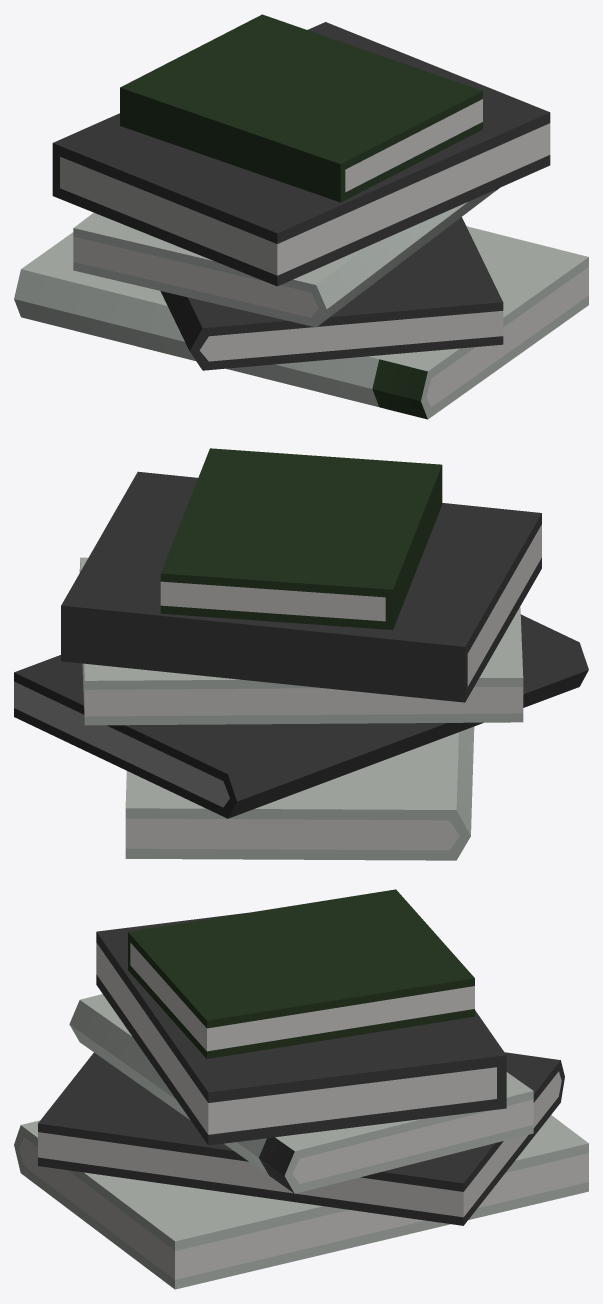
The model's file is SM_Prop_Book_Group_04.glb.
The picture shows the model from 3 angles, top to bottom: view 1: azimuth 30°, elevation 25°; view 2: azimuth 150°, elevation 25°; view 3: azimuth 270°, elevation 25°; orthographic projection. The views are drawn at different scales.
Visible parts, largest first — view 1: SM_Prop_Book_Group_04; view 2: SM_Prop_Book_Group_04; view 3: SM_Prop_Book_Group_04.
Boxes of the visible parts, x1,y1,x2,y2 form: SM_Prop_Book_Group_04: (14,14,588,419); SM_Prop_Book_Group_04: (14,448,588,860); SM_Prop_Book_Group_04: (14,889,588,1289).
Size of the model in its own units: 0.391 by 0.1868 by 0.4329.
Materials: 1 (1 with a texture image).
